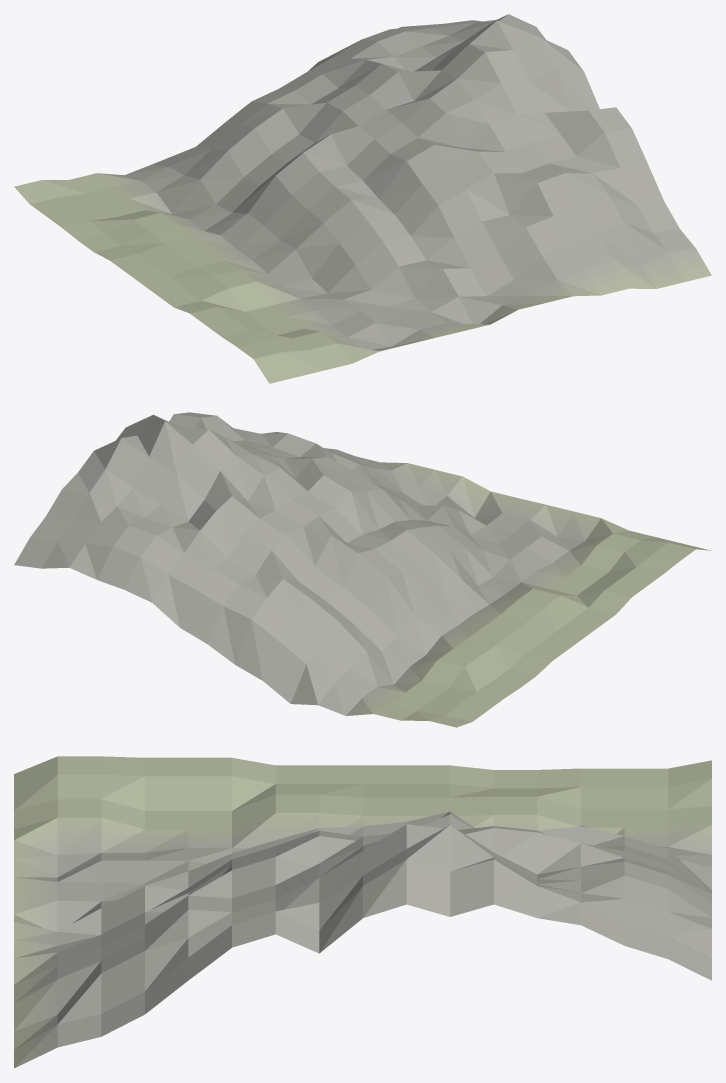
The picture shows the model from 3 angles, top to bottom: view 1: azimuth 30°, elevation 25°; view 2: azimuth 150°, elevation 25°; view 3: azimuth 270°, elevation 25°; orthographic projection. The views are drawn at different scales.
Bounding box in the file's own units: 32 × 11.16 × 32.
